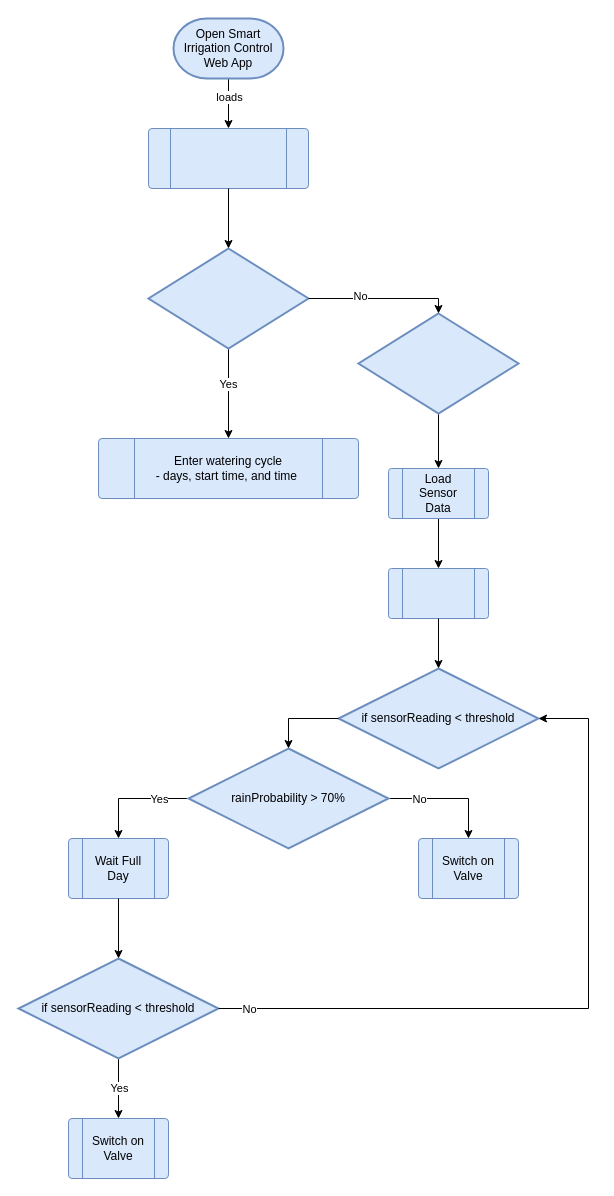
The diagram is 614 pixels wide and 1196 high, and some of its shapes have lost their labels. Here are the shapes that lost their labels. From the top down, the box of each, then its label:
(148, 128, 308, 188): index.html Display Main Menu return menu option
(147, 247, 309, 349): Manual Mode Selected
(357, 312, 519, 414): Smart Mode Selected
(388, 568, 488, 618): Load Weather Forecast
